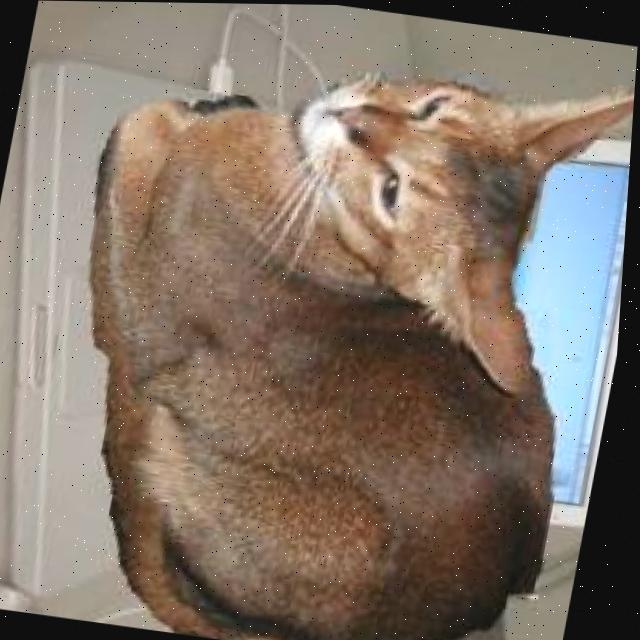Abyssinian: (6, 8, 640, 640)
